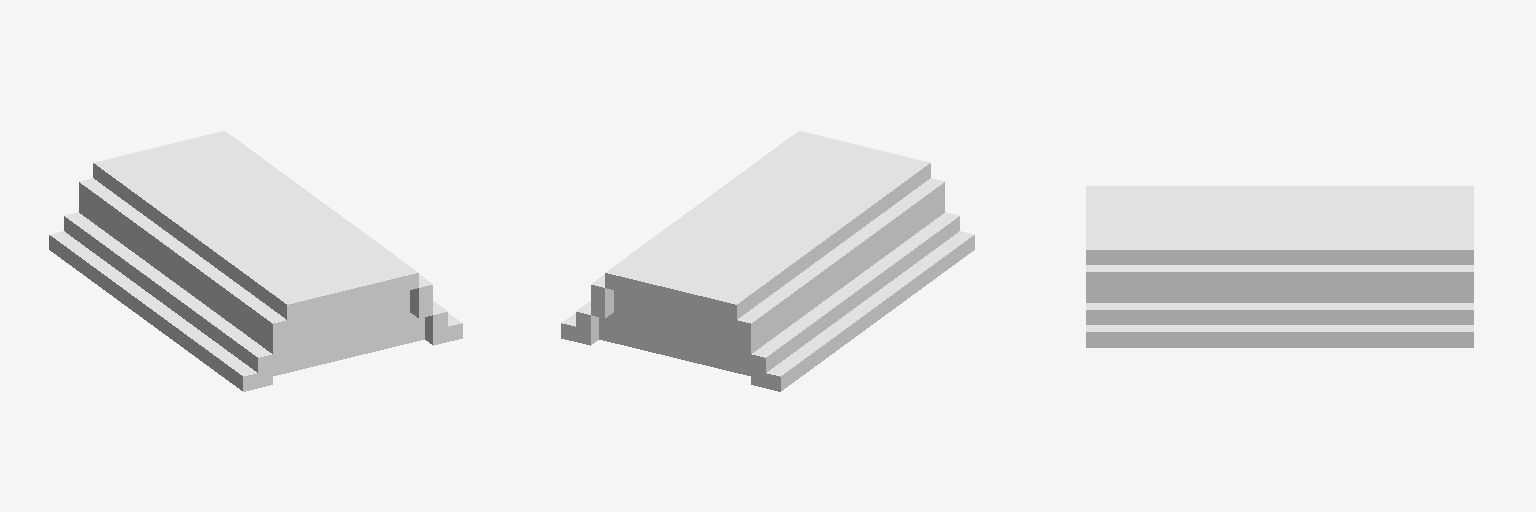
File: sittinglog.obj
The picture shows the model from 3 angles: view 1: azimuth 30°, elevation 25°; view 2: azimuth 150°, elevation 25°; view 3: azimuth 270°, elevation 25°; orthographic projection.
Visible parts, largest first — view 1: sittinglog; view 2: sittinglog; view 3: sittinglog.
Part boxes in pixels (bbox=[...]): sittinglog: bbox=[49, 131, 462, 391]; sittinglog: bbox=[561, 131, 974, 391]; sittinglog: bbox=[1086, 186, 1473, 347].
Bounding box in the file's own units: 15 × 5 × 23.